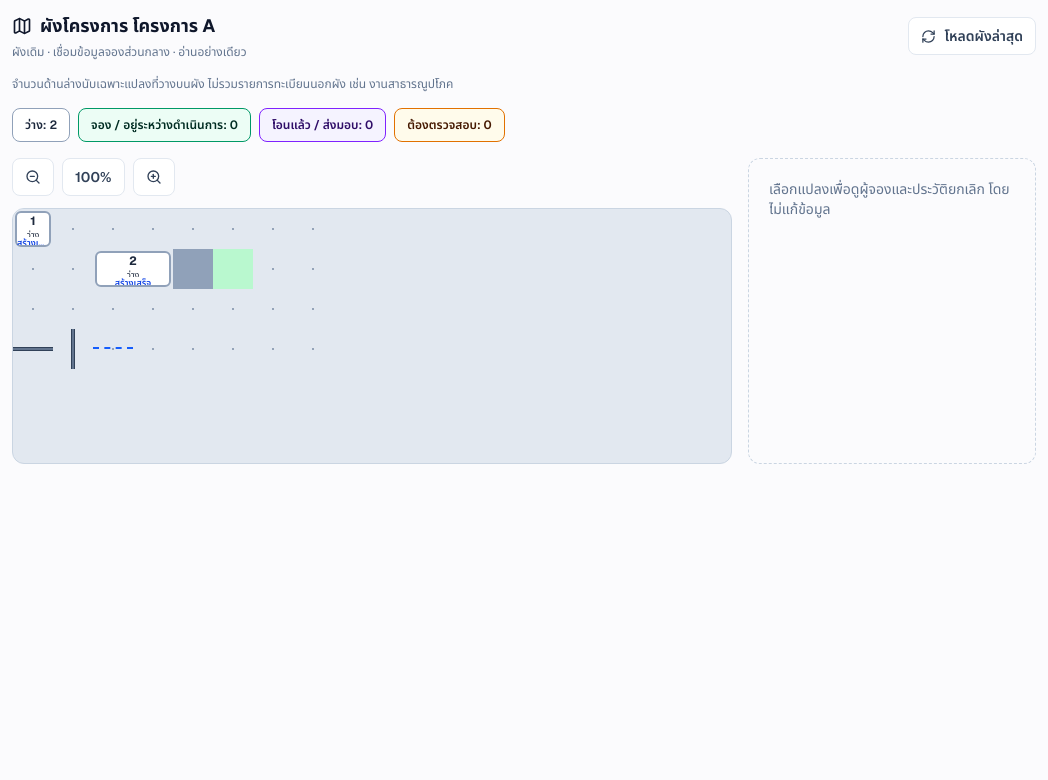
Test: central booking read-only project map › shows cancelled-only plot as vacant while retaining cancellation history
The image size is (1048, 780).
Click the button with aria-label "แปลง 2 — ว่าง".
click(133, 269)  # box [93, 249, 173, 289]
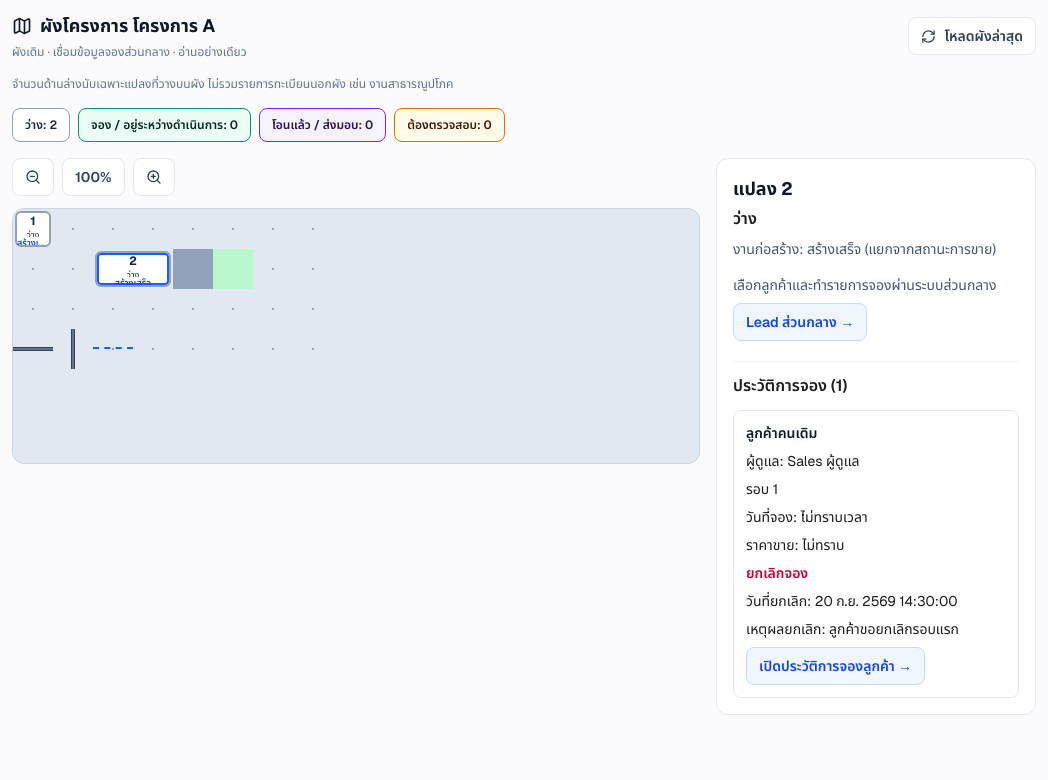
Expected: the text "ยกเลิกจอง" is shown, [746, 564, 808, 582]
